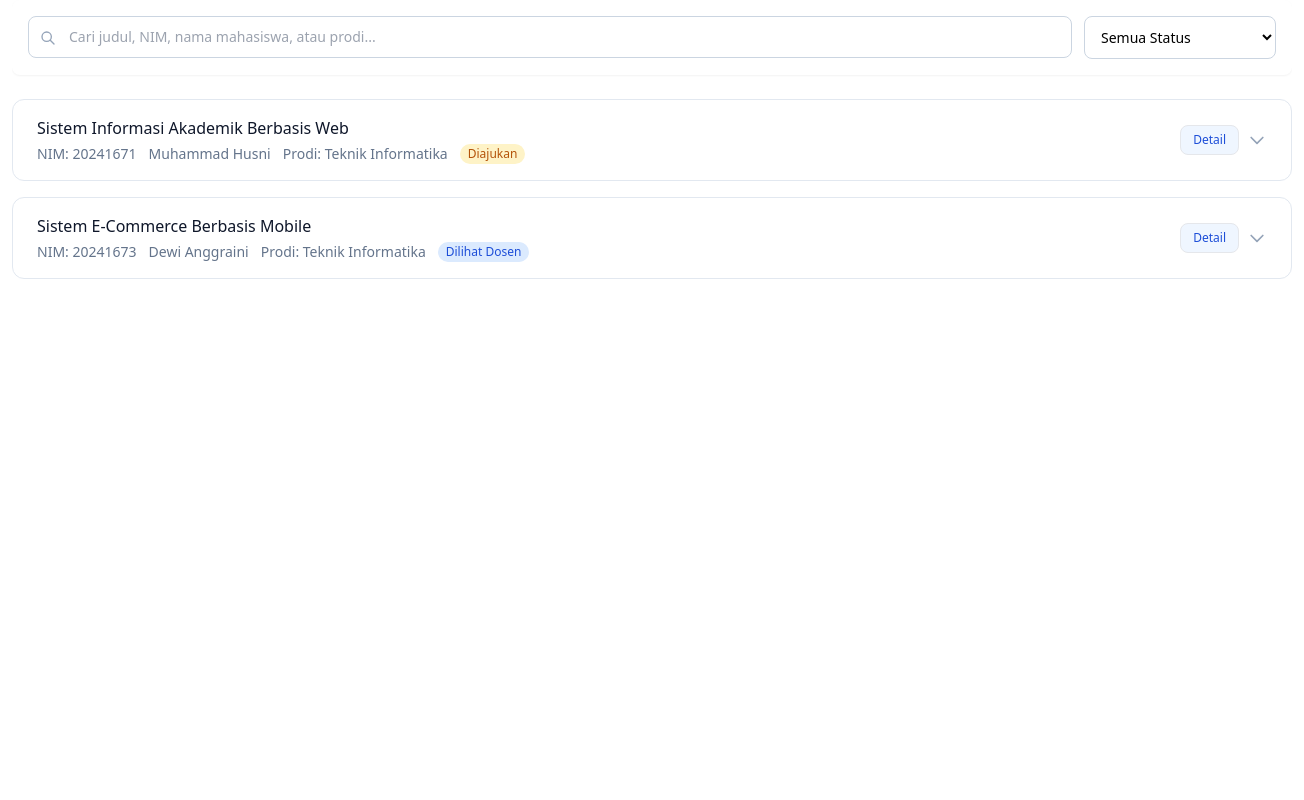
Test case: DosenProposalReview › klik Setujui di detail terbuka → PUT endpoint update + semua tombol hilang (tunggu admin)
Tidak ada popup — detail adalah expand inline
Click the heading "Sistem Informasi Akademik Berbasis Web": (193, 128) left=37, top=117, right=349, bottom=139
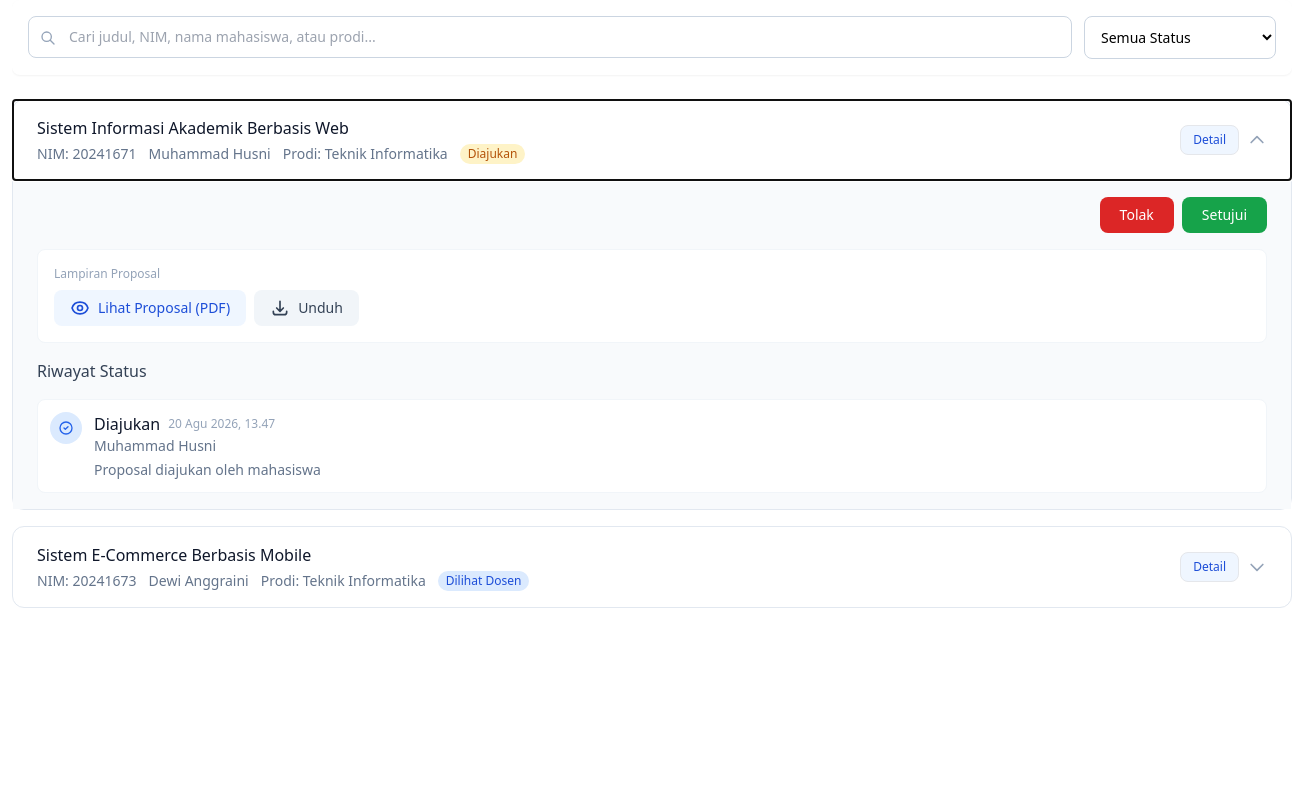
Click the button "Setujui": (1224, 215) left=1182, top=197, right=1267, bottom=233
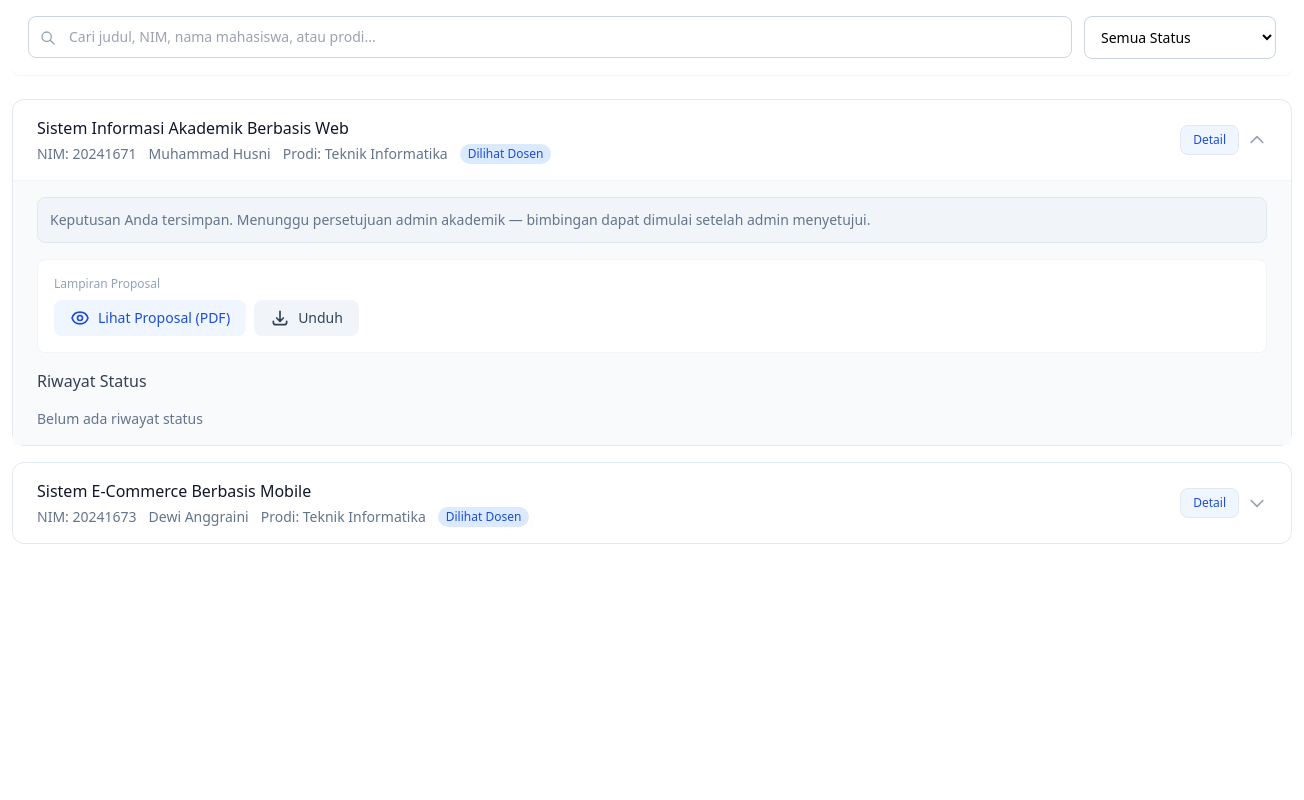
Check: the button "Setujui" is gone
Check: the button "Tolak" is gone
Check: the text "Menunggu persetujuan admin akademik" is shown, box left=50, top=210, right=870, bottom=229
